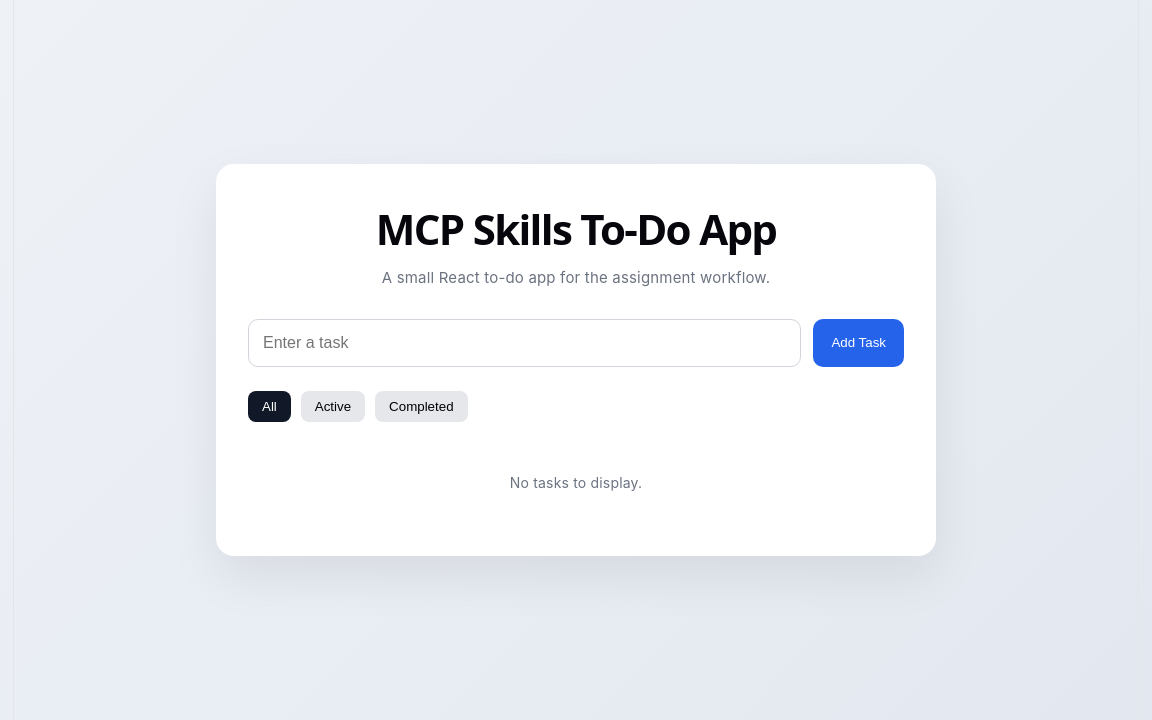
Test: To-Do App › adds a task
This screenshot has width=1152, height=720.
Type "Test task" into the field with placeholder "Enter a task" at (525, 343), box [248,319,801,367]
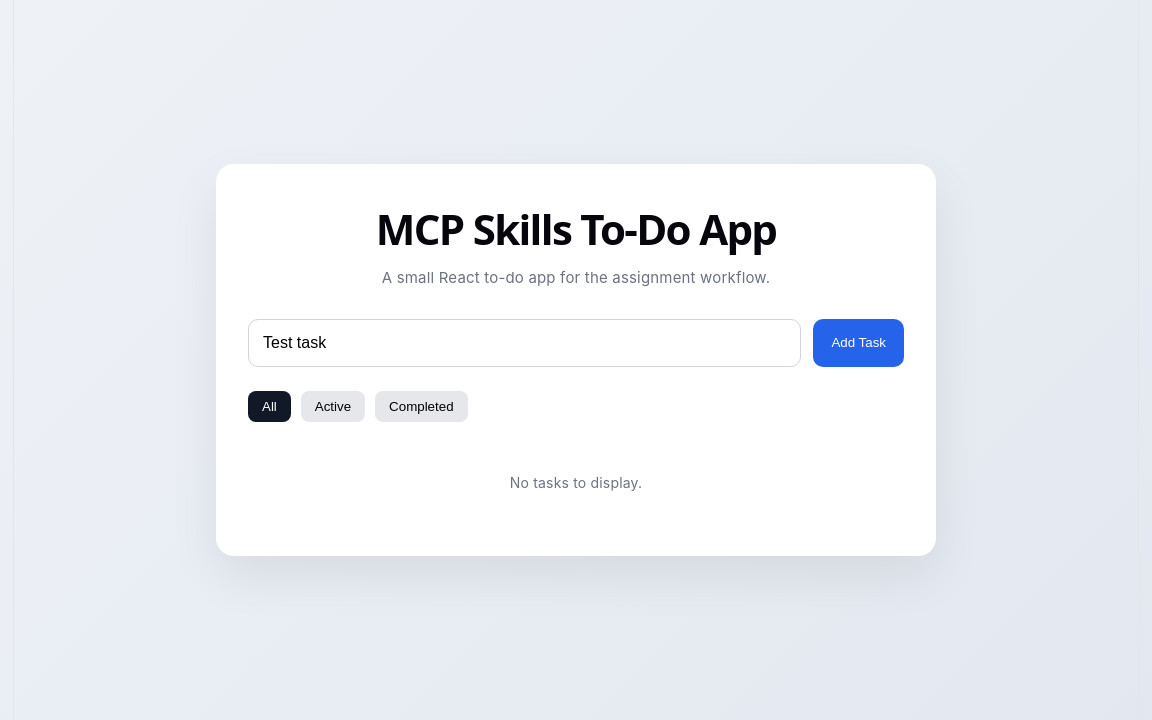
Click the button "Add Task" at (859, 343), box [813,319,904,367]
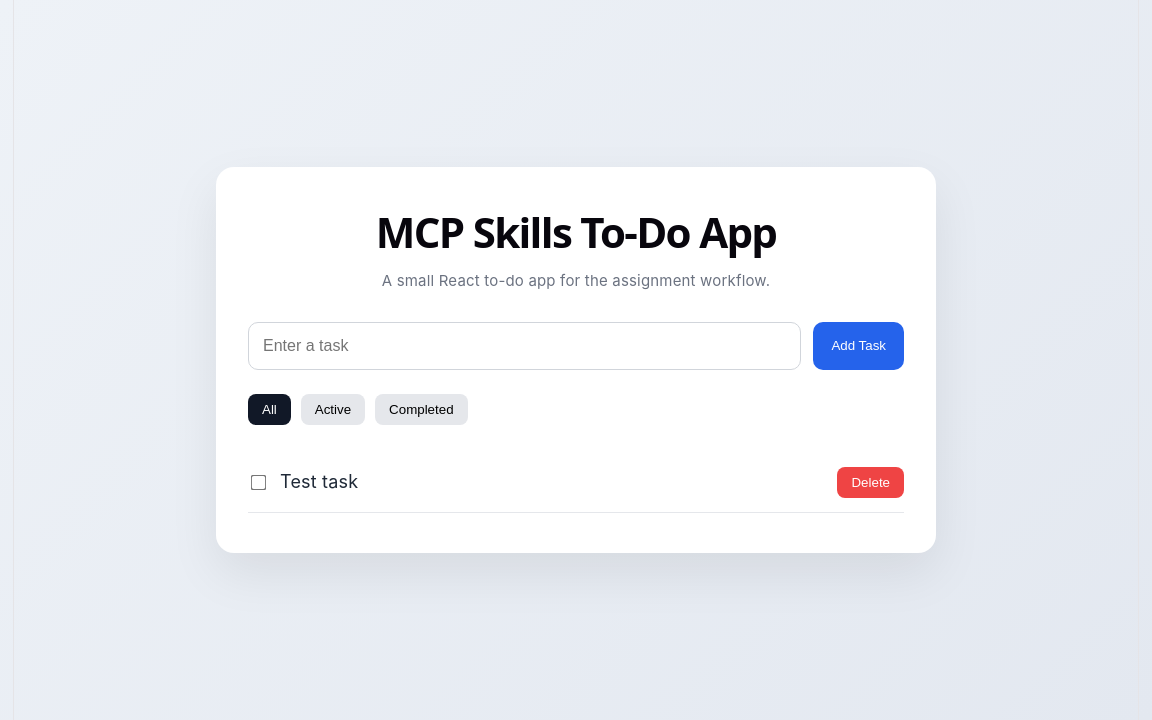
Expected: the text "Test task" is shown, [280,469,358,495]
